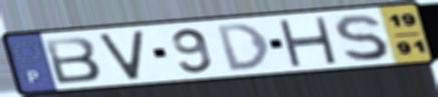9: (171, 27, 214, 74)
B: (41, 35, 104, 86)
D: (213, 21, 273, 73)
H: (275, 16, 340, 67)
S: (331, 12, 392, 63)
V: (96, 28, 146, 82)
